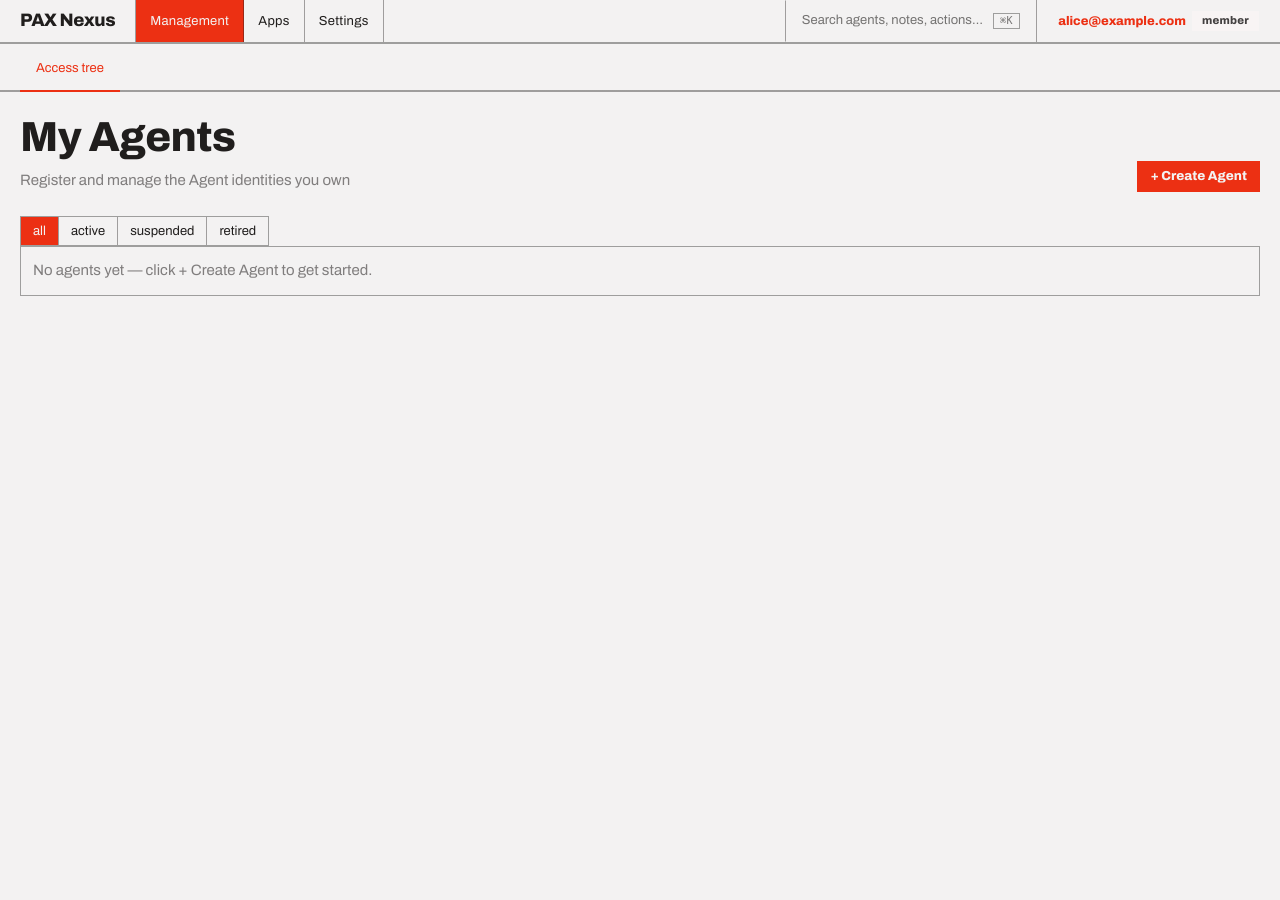
Test: shared Modal dialog semantics (Create Agent) › exposes role=dialog, aria-modal and an accessible name from its title
Step 1. Click the button "+ Create Agent" → (1199,177), box [1138,161,1260,192]
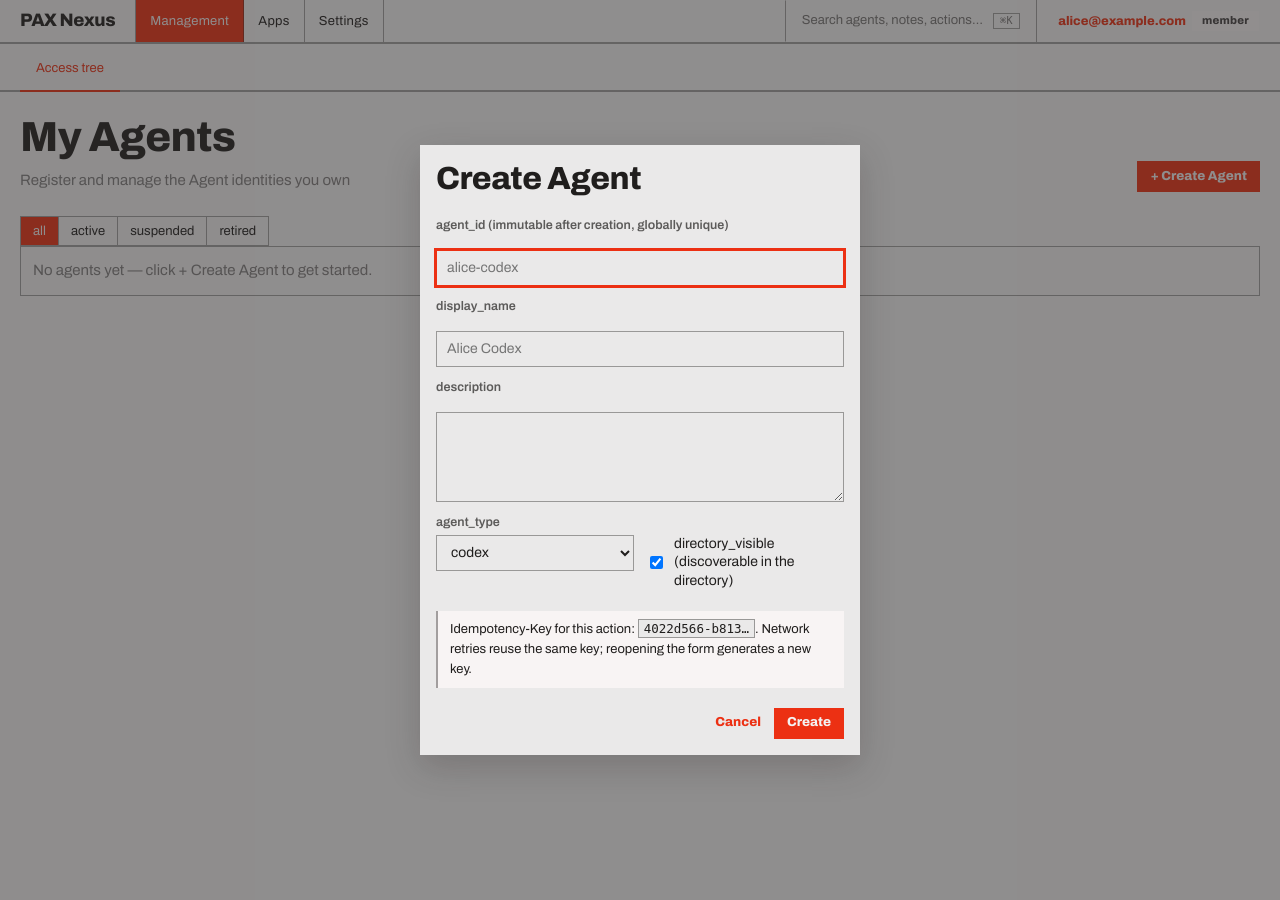
Now the heading "Create Agent" is shown, box [436,161,641,196]
